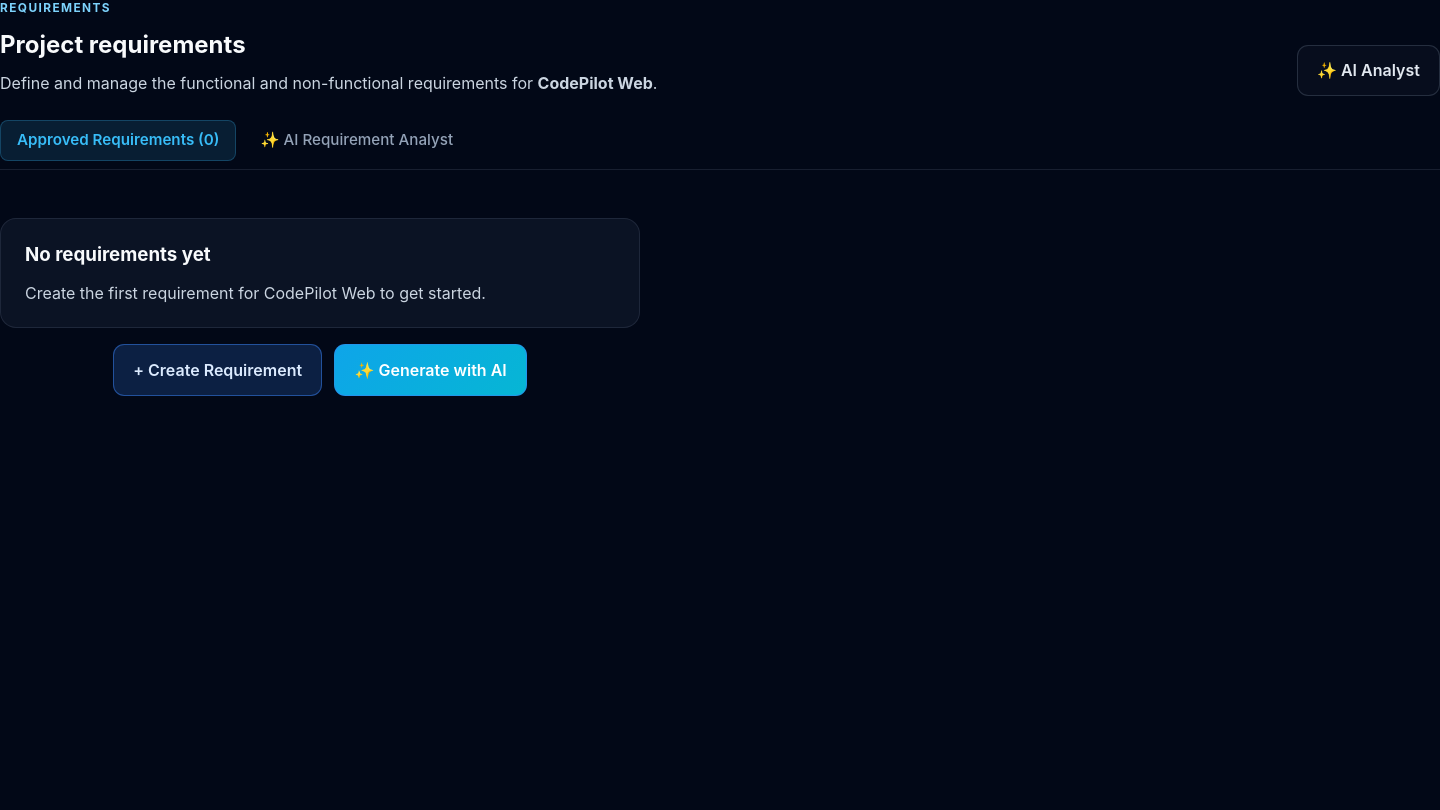
RequirementsPage › validates client-side required fields on create form submission
Click the button "+ Create Requirement" at (218, 370), box [113,344,322,396]
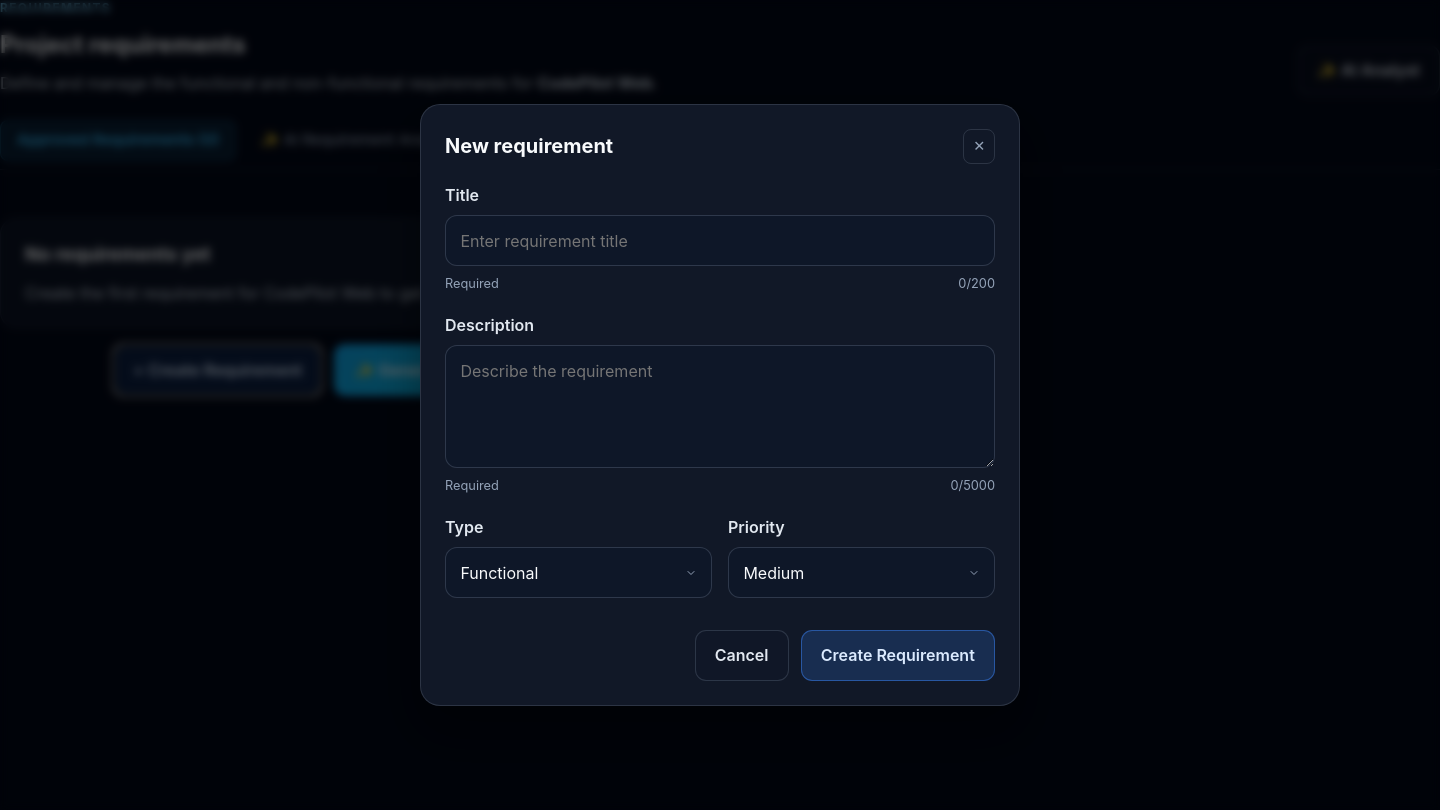
Expected: the dialog named "Create requirement" is shown, [420,104,1020,706]
Click the button "Create Requirement" at (898, 655), box [801,630,995,681]
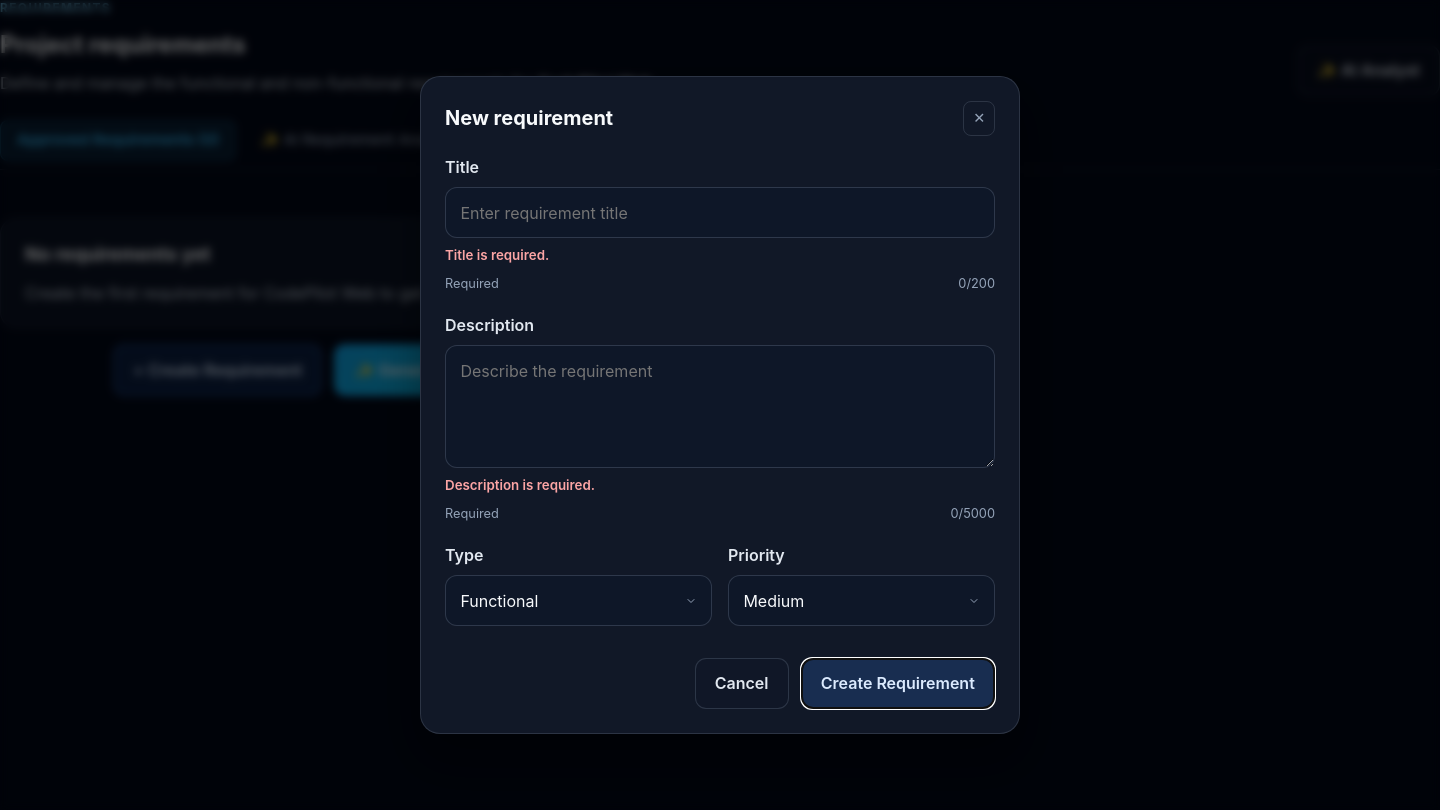
Expected: the text "Title is required." is shown, [445,247,549,263]
Expected: the text "Description is required." is shown, [445,477,595,493]
